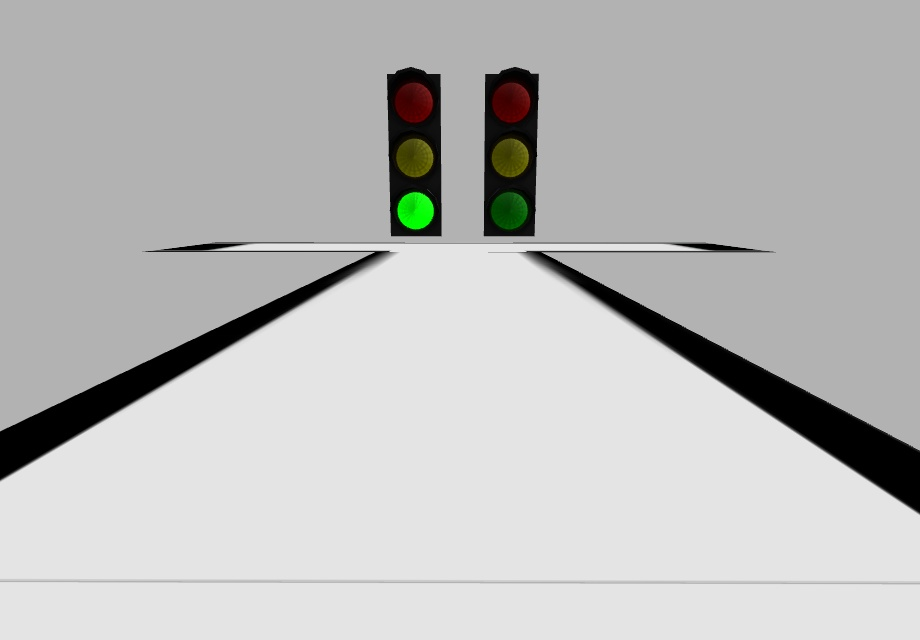green_off: (492, 193, 529, 234)
green_on: (395, 191, 434, 232)
